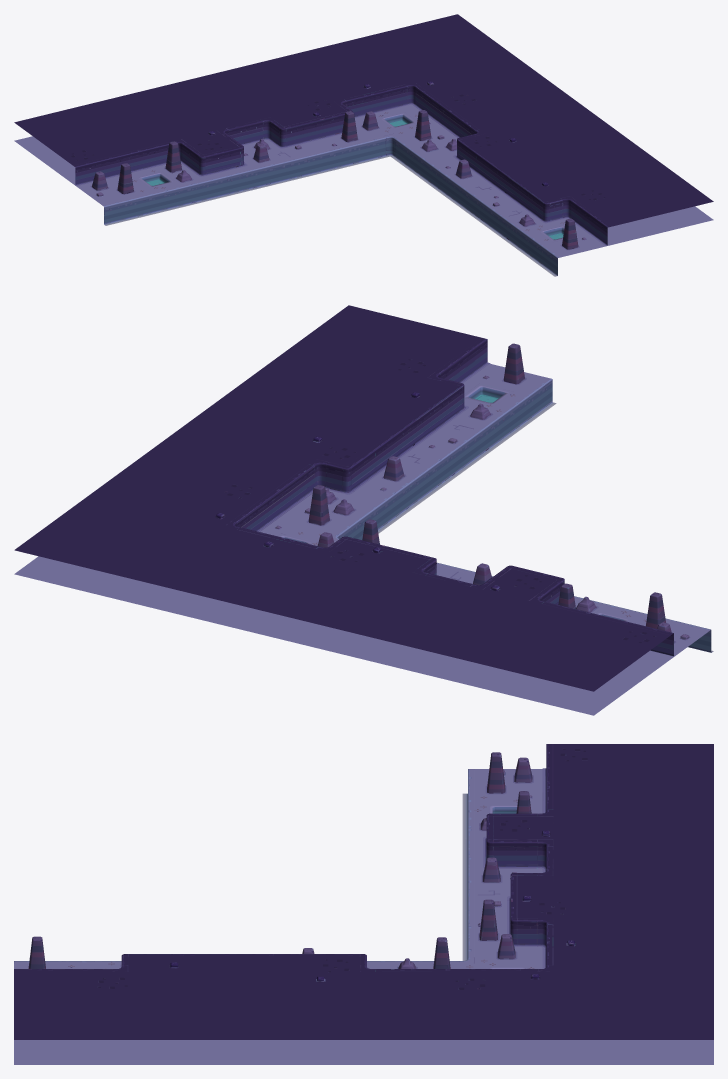
The model's file is C_cave1_out_LD.fbx.
3 renders of one model, top to bottom at view 1: azimuth 30°, elevation 25°; view 2: azimuth 150°, elevation 25°; view 3: azimuth 270°, elevation 25°, orthographic. The views are drawn at different scales.
Visible parts, largest first — view 1: C_cave1_out_LD.001; view 2: C_cave1_out_LD.001; view 3: C_cave1_out_LD.001.
Boxes of the visible parts, left/top/right/bottom form: C_cave1_out_LD.001: left=14, top=14, right=713, bottom=276; C_cave1_out_LD.001: left=14, top=305, right=713, bottom=715; C_cave1_out_LD.001: left=14, top=744, right=713, bottom=1064.
Bounding box in the file's own units: 117 × 11.26 × 117.
